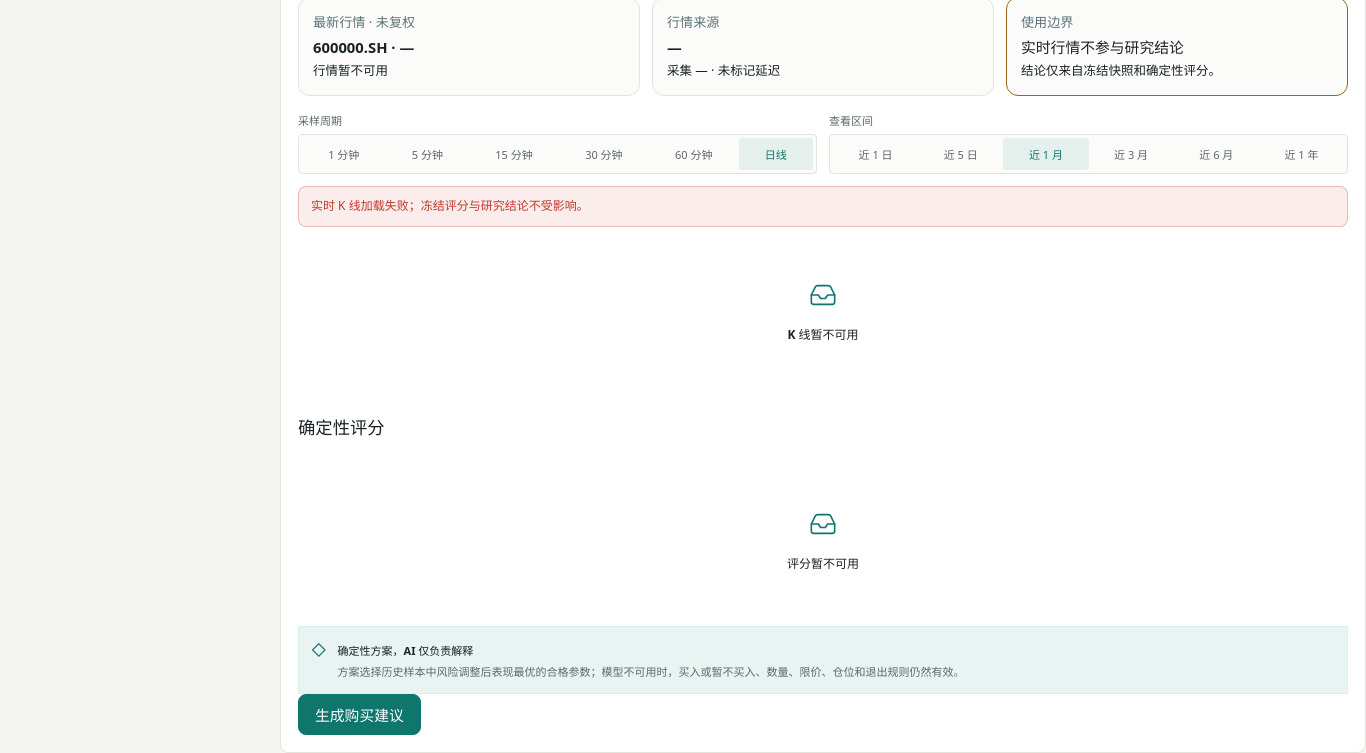
it: research observation mode and precise reports › submits selected formal report candidates to the asynchronous Trade Plan API
(page scrolled)
Check: the text "方案选择历史样本中风险调整后表现最优的合格参数；模型不可用时，买入或暂不买入、数量、限价、仓位和退出规则仍然有效。" is shown, box [338, 663, 965, 681]
Click the button "生成购买建议": (359, 714) [298, 694, 421, 735]
(page scrolled)
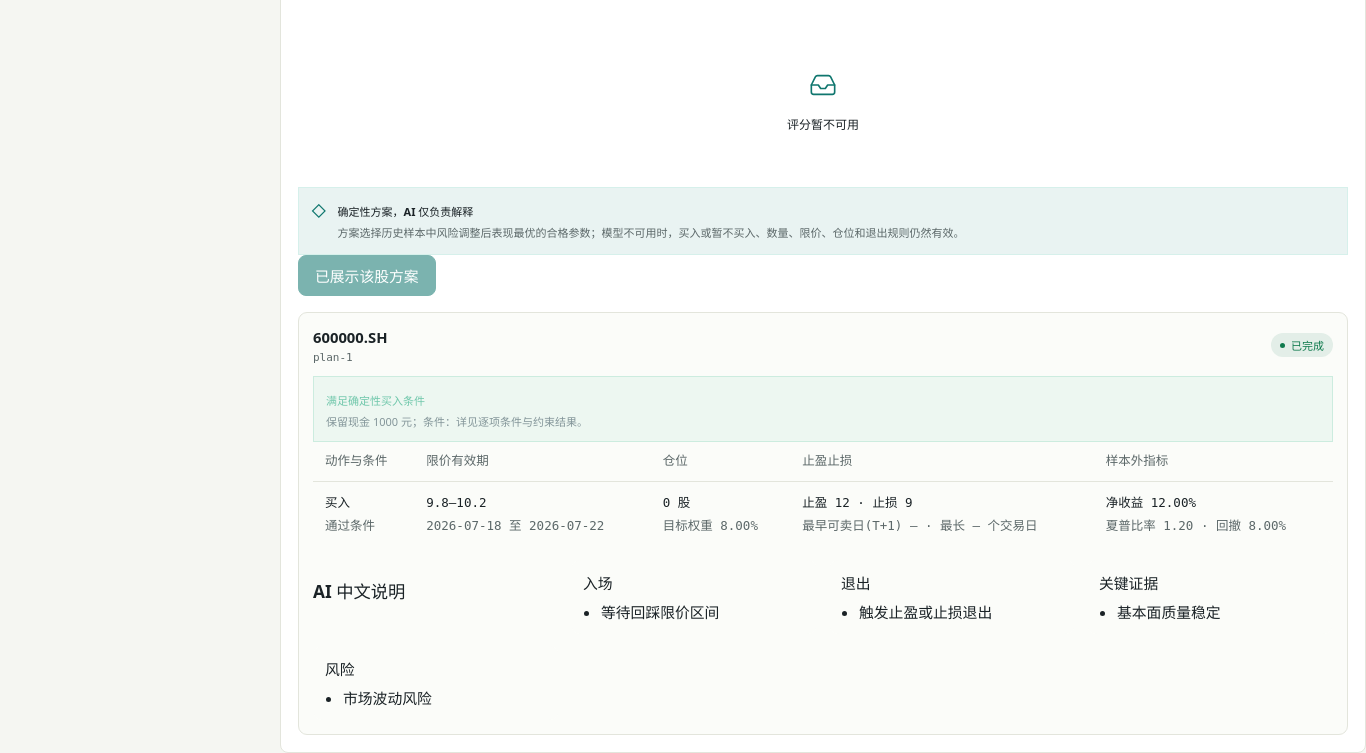
Check: the list item "等待回踩限价区间" is shown, box [601, 602, 719, 622]
Check: the list item "触发止盈或止损退出" is shown, box [859, 602, 992, 622]
Check: the list item "基本面质量稳定" is shown, box [1117, 602, 1221, 622]
